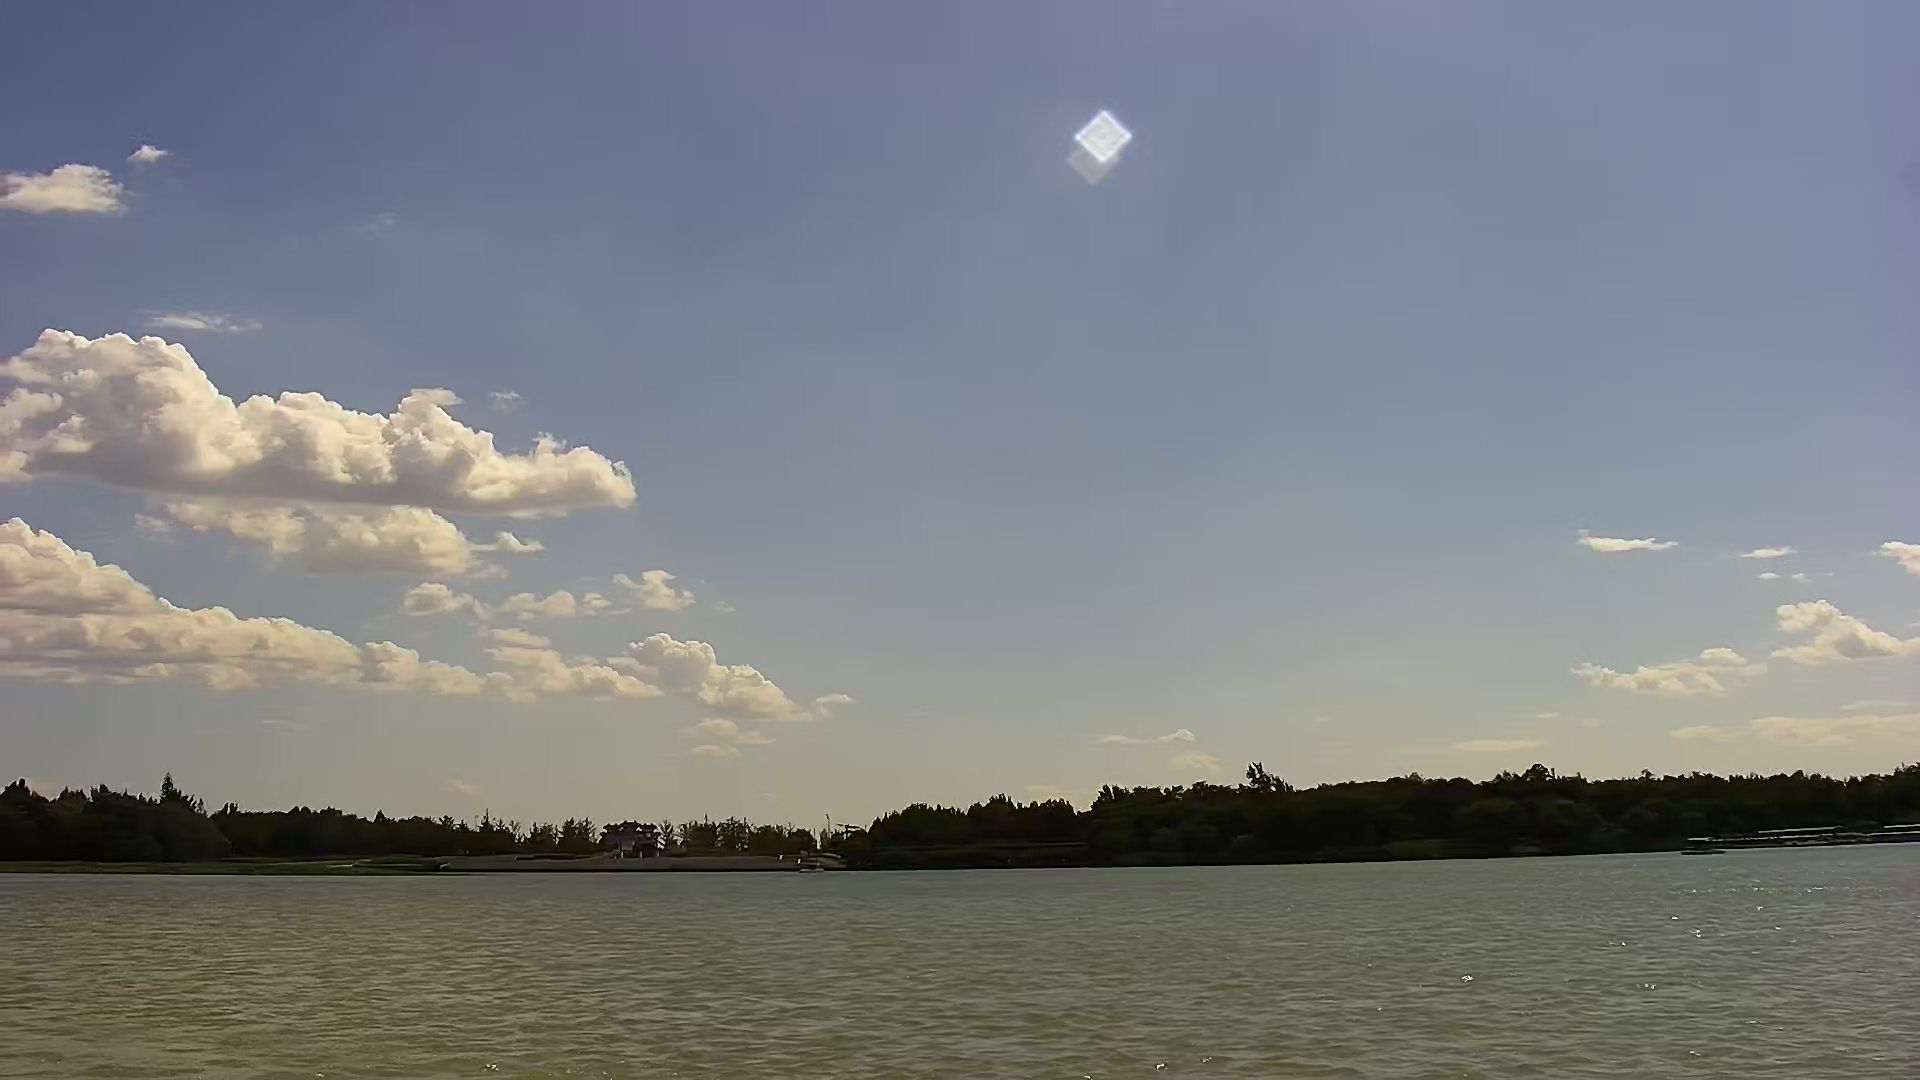boat: (1681, 831, 1712, 851)
harbor: (1731, 818, 1916, 847)
